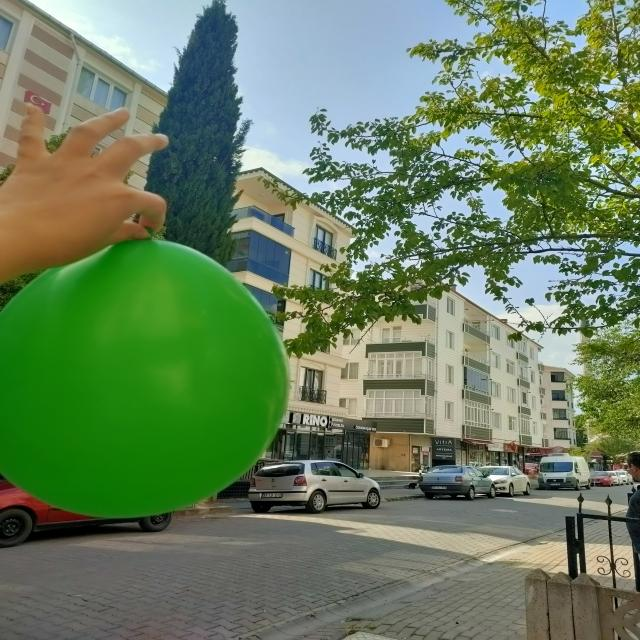green: (1, 239, 293, 521)
